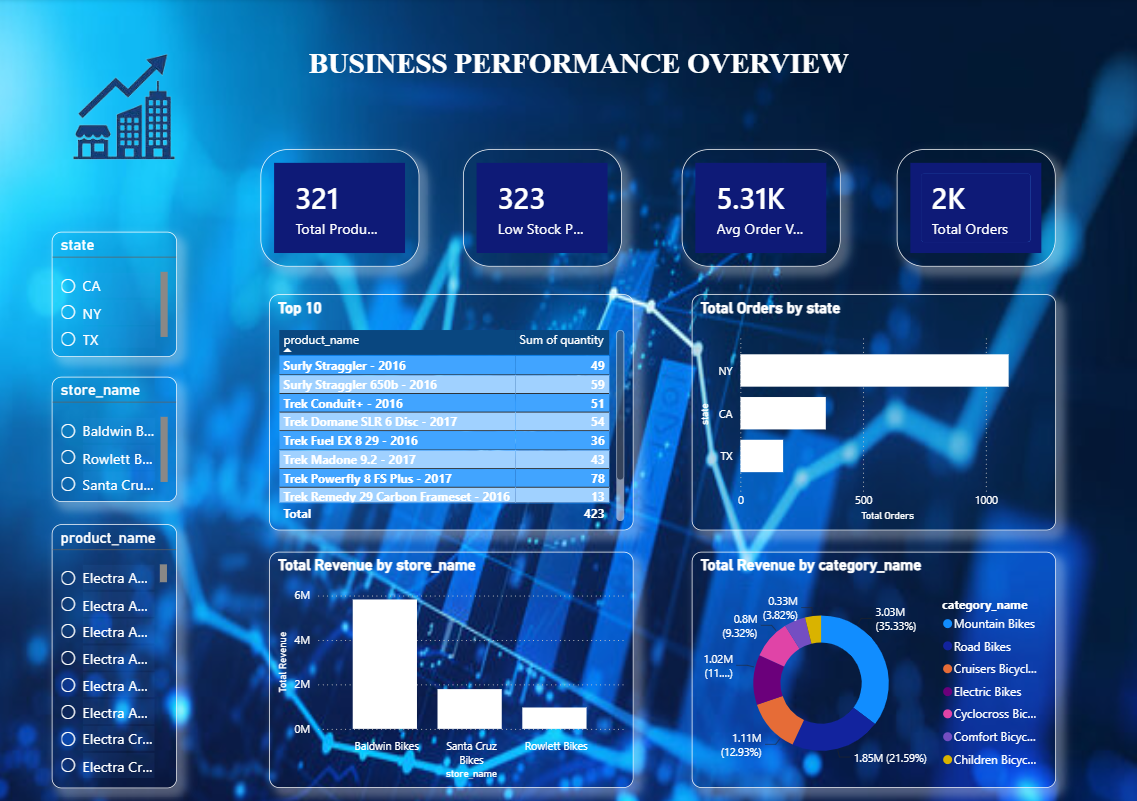

The page's visual inventory and layout, read from the dashboard file:
{"tool":"powerbi","page":{"name":"Store overview","canvas":[1280,901],"ordinal":1},"visuals":[{"type":"donutChart","fields":{"Category":["categories.category_name"],"Y":["order_items.Total Revenue"]},"box":[775.5,619,407,264],"z":0},{"type":"clusteredColumnChart","fields":{"Category":["stores.store_name"],"Y":["order_items.Total Revenue"]},"box":[303.2,619,407,264],"z":1000},{"type":"clusteredBarChart","fields":{"Category":["stores.state"],"Y":["orders.Total Orders"]},"box":[775.5,331.2,407,264],"z":2000},{"type":"tableEx","title":"Top 10","fields":{"Values":["products.product_name","Sum(stocks.quantity)"]},"box":[303.2,331.2,407,264],"z":3000},{"type":"cardVisual","fields":{"Data":["products.Total Products"]},"box":[293.4,169.1,177.3,131.2],"z":4000},{"type":"cardVisual","fields":{"Data":["stocks.Low Stock Products"]},"box":[519.8,169.1,177.3,131.2],"z":5000},{"type":"cardVisual","fields":{"Data":["orders.Avg Order Value"]},"box":[764.3,169.1,177.3,131.2],"z":6000},{"type":"cardVisual","fields":{"Data":["orders.Total Orders"]},"box":[1004.7,169.1,177.3,131.2],"z":7000},{"type":"listSlicer","fields":{"Values":["stores.state"]},"box":[60.1,261.3,140,140],"z":8000},{"type":"listSlicer","fields":{"Values":["stores.store_name"]},"box":[60.1,423.4,140,140],"z":9000},{"type":"listSlicer","fields":{"Values":["products.product_name"]},"box":[60.1,588.3,139.7,294.8],"z":10000},{"type":"textbox","box":[342.3,48.9,619,53.1],"z":11000},{"type":"image","box":[30.7,27.9,228.9,182.8],"z":11001}]}

Visuals, with their boxes in screenshot pixels (x1, y1, x2, y2), scaled from the page's 1280x901 canvas onto the 1137x801 screenshot:
donutChart - categories.category_name x order_items.Total Revenue: Rect(689, 550, 1050, 785)
clusteredColumnChart - stores.store_name x order_items.Total Revenue: Rect(269, 550, 631, 785)
clusteredBarChart - stores.state x orders.Total Orders: Rect(689, 294, 1050, 529)
"Top 10" tableEx: Rect(269, 294, 631, 529)
cardVisual - products.Total Products: Rect(261, 150, 418, 267)
cardVisual - stocks.Low Stock Products: Rect(462, 150, 619, 267)
cardVisual - orders.Avg Order Value: Rect(679, 150, 836, 267)
cardVisual - orders.Total Orders: Rect(892, 150, 1050, 267)
listSlicer - stores.state: Rect(53, 232, 178, 357)
listSlicer - stores.store_name: Rect(53, 376, 178, 501)
listSlicer - products.product_name: Rect(53, 523, 177, 785)
textbox: Rect(304, 43, 854, 91)
image: Rect(27, 25, 231, 187)
